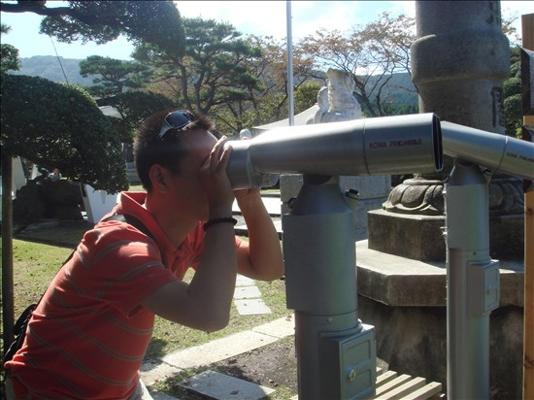person: (1, 109, 287, 400)
